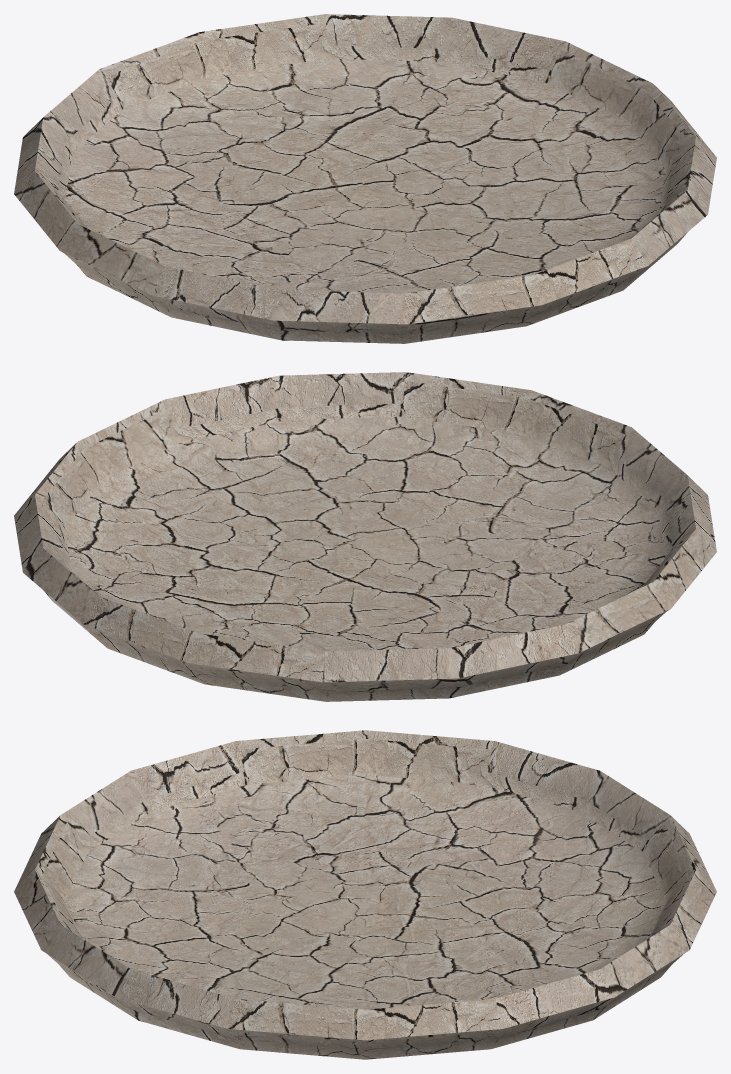
The model's file is Plate.FBX.
3 views of the same model, one above another, from view 1: azimuth 30°, elevation 25°; view 2: azimuth 150°, elevation 25°; view 3: azimuth 270°, elevation 25° (orthographic).
Parts seen in each view (by area): view 1: Teapot002; view 2: Teapot002; view 3: Teapot002.
Boxes of the visible parts, x1,y1,x2,y2 form: Teapot002: (14, 14, 716, 343); Teapot002: (14, 372, 716, 701); Teapot002: (14, 730, 716, 1059).
Size of the model in its own units: 5.48 by 0.6747 by 5.48.
1 material, 1 textured.
